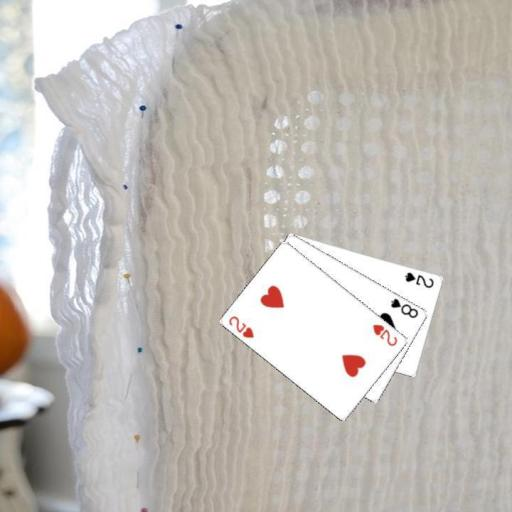card-corner: (370, 320, 399, 348), (226, 313, 256, 340), (388, 295, 420, 320), (402, 269, 435, 289)
